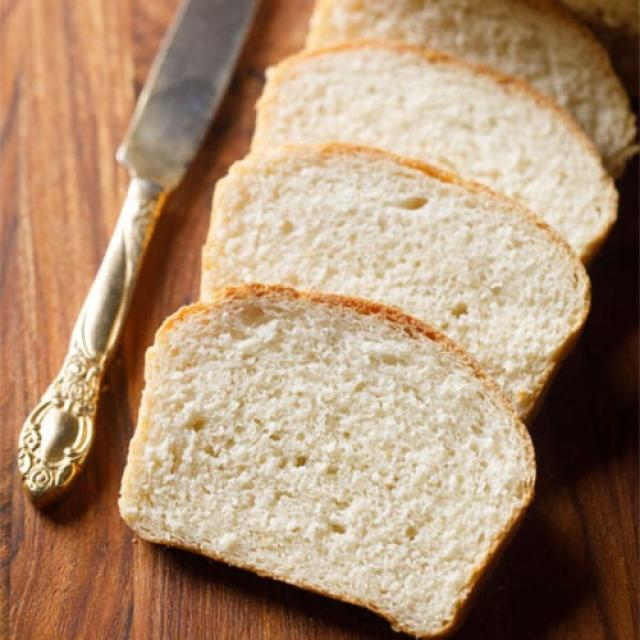Bread: (120, 278, 539, 640), (187, 134, 605, 454), (234, 53, 630, 261), (281, 0, 640, 176)
